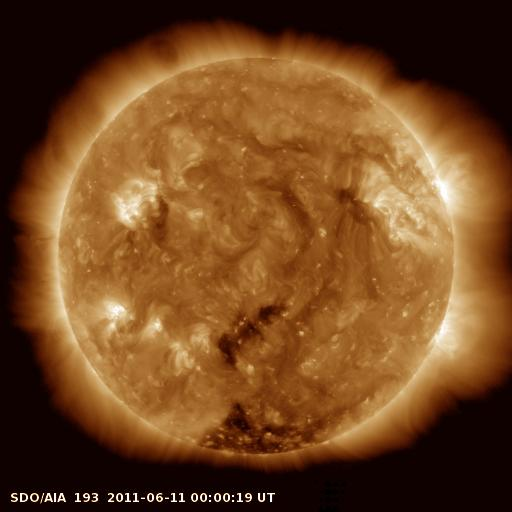coronal_hole: (188, 404, 339, 460), (219, 301, 285, 362)
